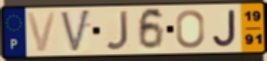6: (136, 7, 167, 53)
J: (104, 9, 130, 52), (211, 8, 238, 49)
O: (174, 9, 206, 50)
V: (59, 8, 92, 55), (25, 10, 59, 54)
